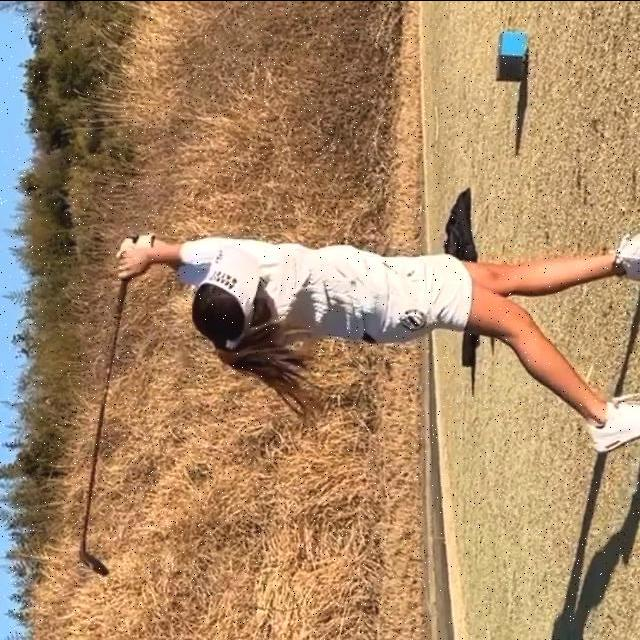golf club-handle: (76, 228, 140, 577)
golf club-head: (79, 551, 109, 575)
